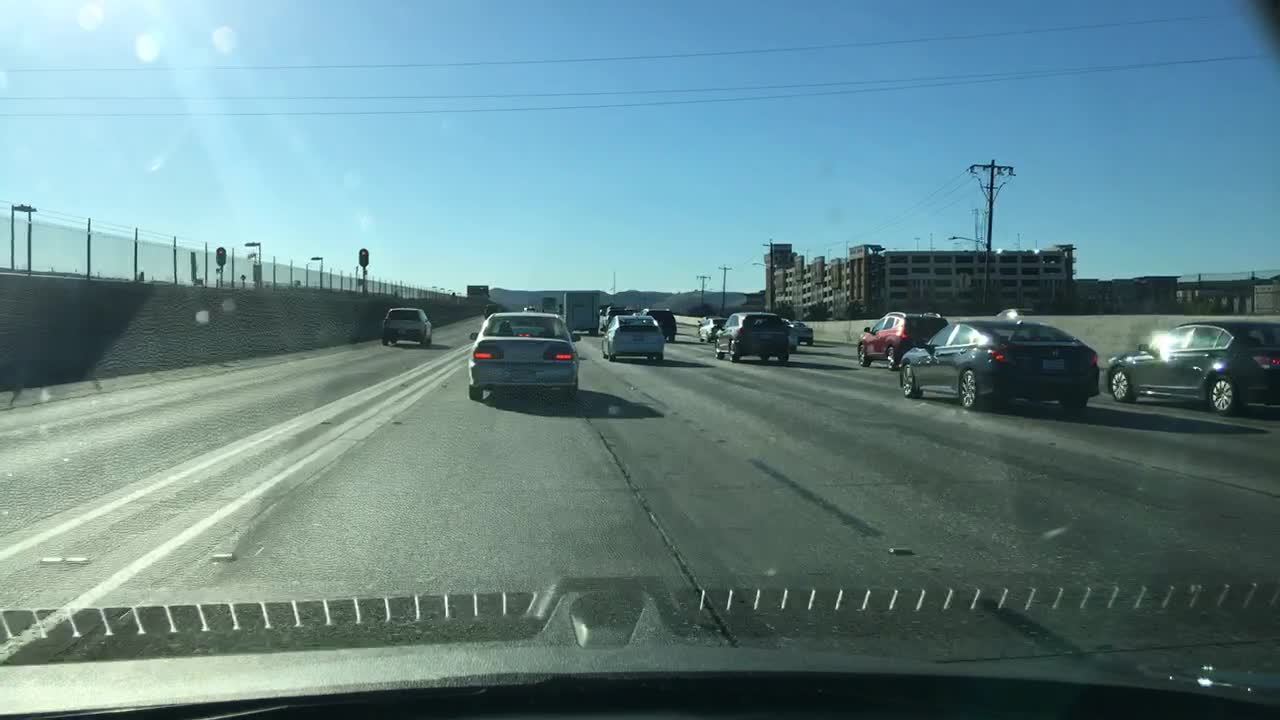car: (897, 318, 1100, 413), (1104, 316, 1278, 415), (466, 311, 577, 400), (856, 308, 949, 369), (714, 312, 792, 364), (599, 314, 668, 364), (380, 304, 432, 345), (642, 304, 679, 345), (599, 306, 638, 335), (696, 314, 725, 344), (782, 316, 802, 352), (791, 319, 815, 343), (999, 304, 1034, 318), (477, 300, 503, 318), (521, 303, 535, 311)
truck: (563, 287, 601, 336), (464, 283, 489, 304), (538, 294, 558, 311)
